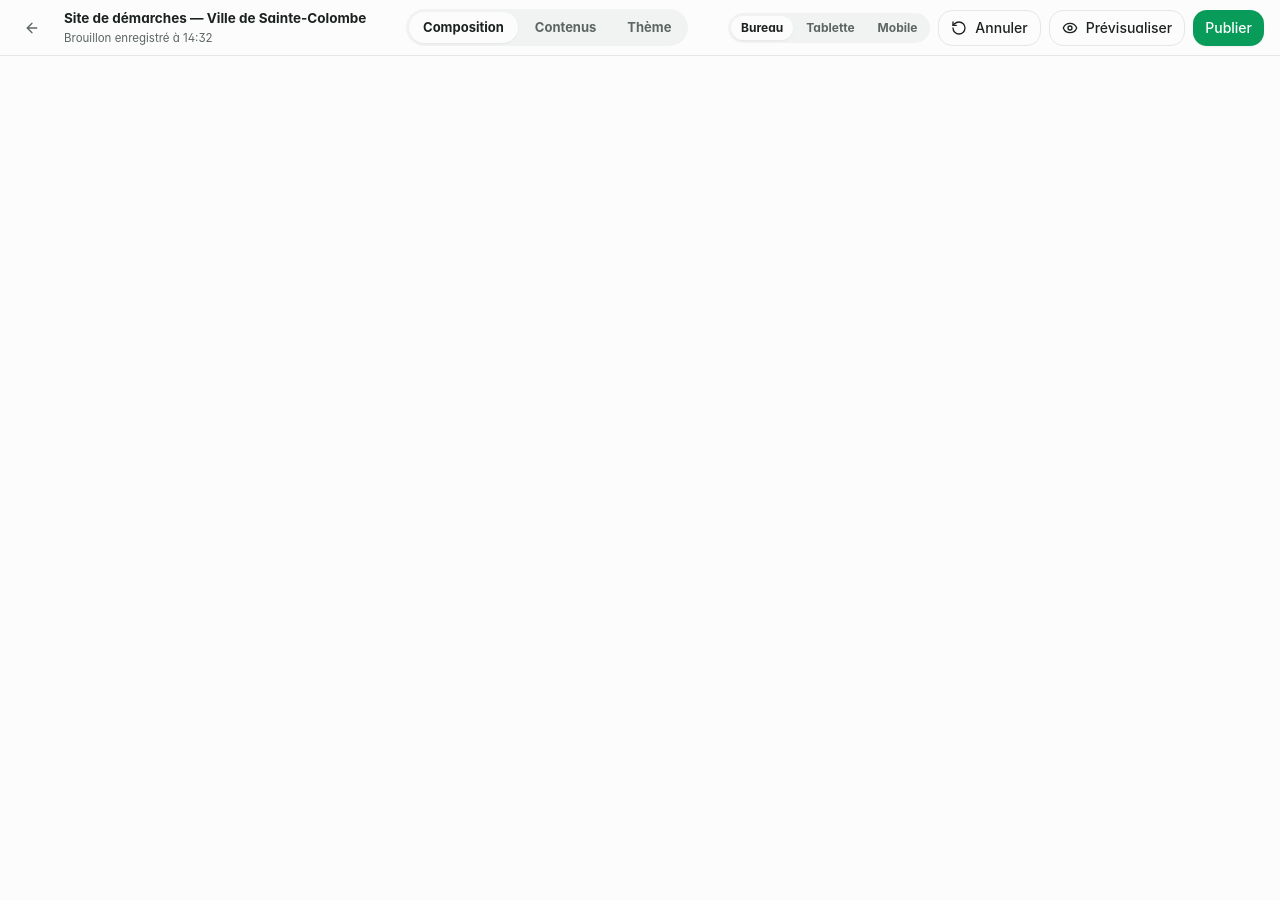
Test case: PortalEditor — en-tête › l'onglet Thème ouvre les réglages, et le canevas reste celui de la page
Click the tab "Thème": (649,28) [613,12,685,43]
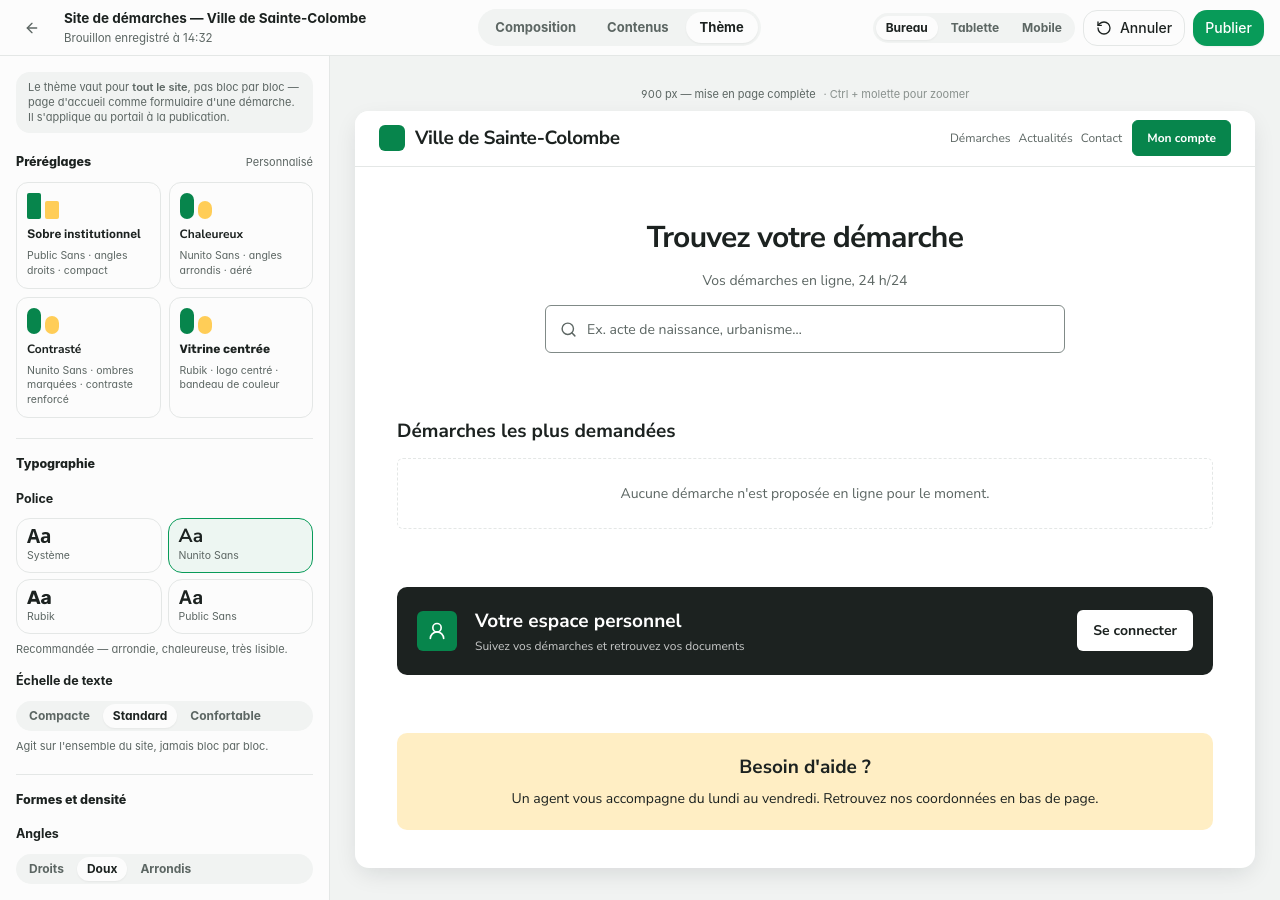
Expected: the button "Ajouter une section" is not shown
Expected: the heading "Trouvez votre démarche" is shown, [647,218,963,256]
